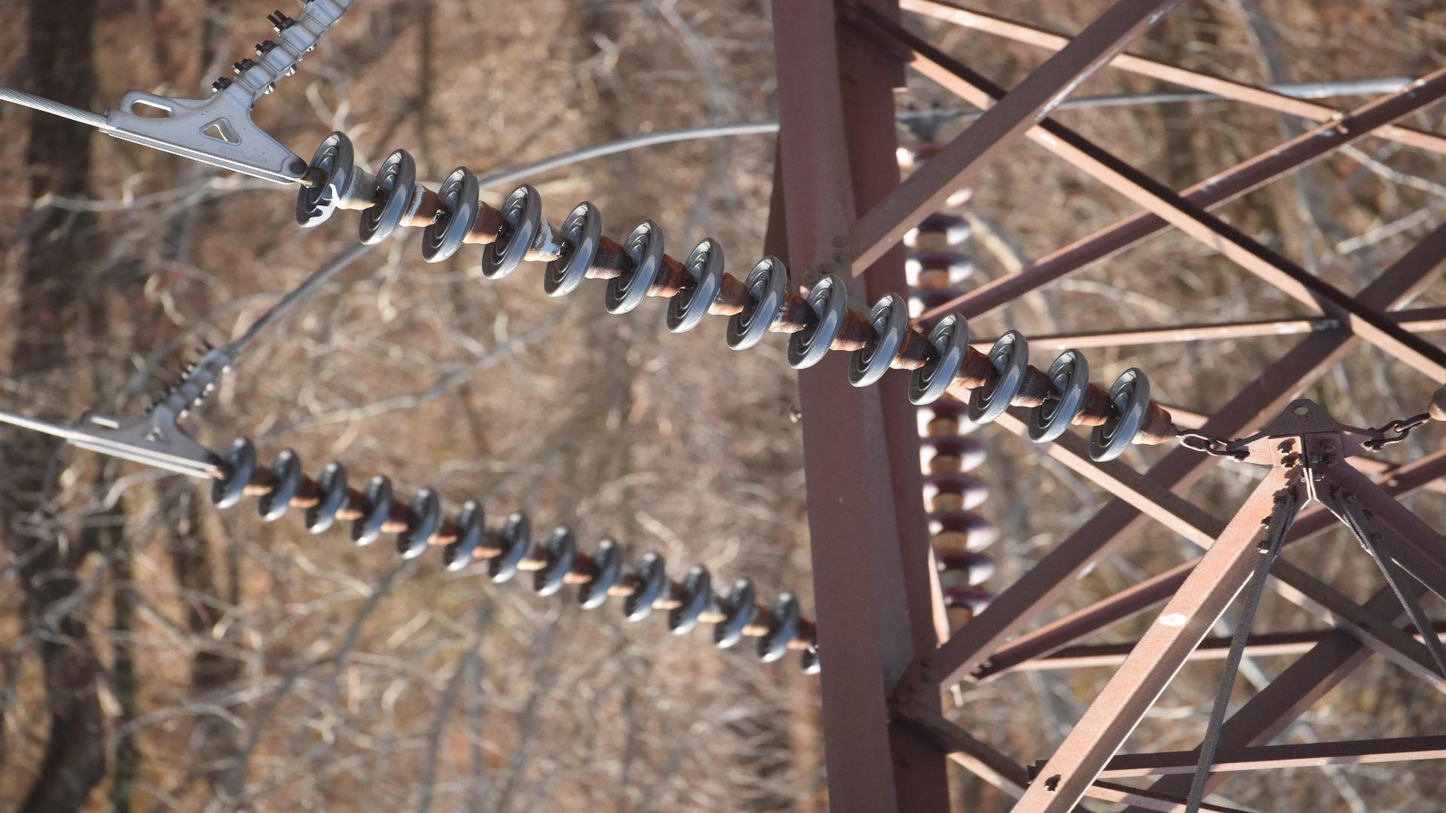insulator: (288, 127, 1154, 467), (204, 432, 816, 681), (917, 392, 1008, 620), (901, 206, 974, 327)
insulator_breakage: (295, 178, 343, 231)
